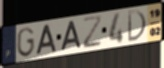4: (108, 11, 125, 45)
A: (60, 19, 83, 53), (35, 23, 58, 56)
D: (127, 9, 148, 44)
G: (16, 25, 36, 58)
Z: (82, 14, 104, 51)
